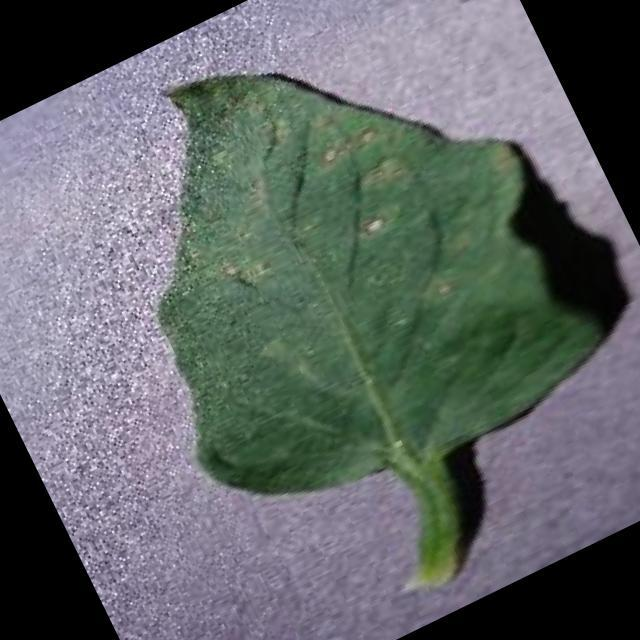Tomato Septoria spot leaf: (37, 0, 627, 555)
